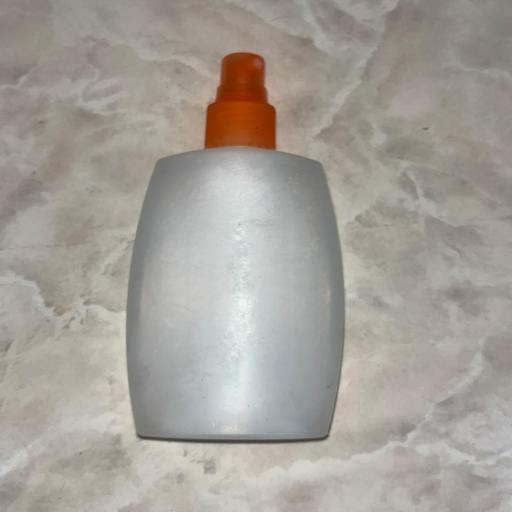HDPE: (94, 0, 415, 448)
